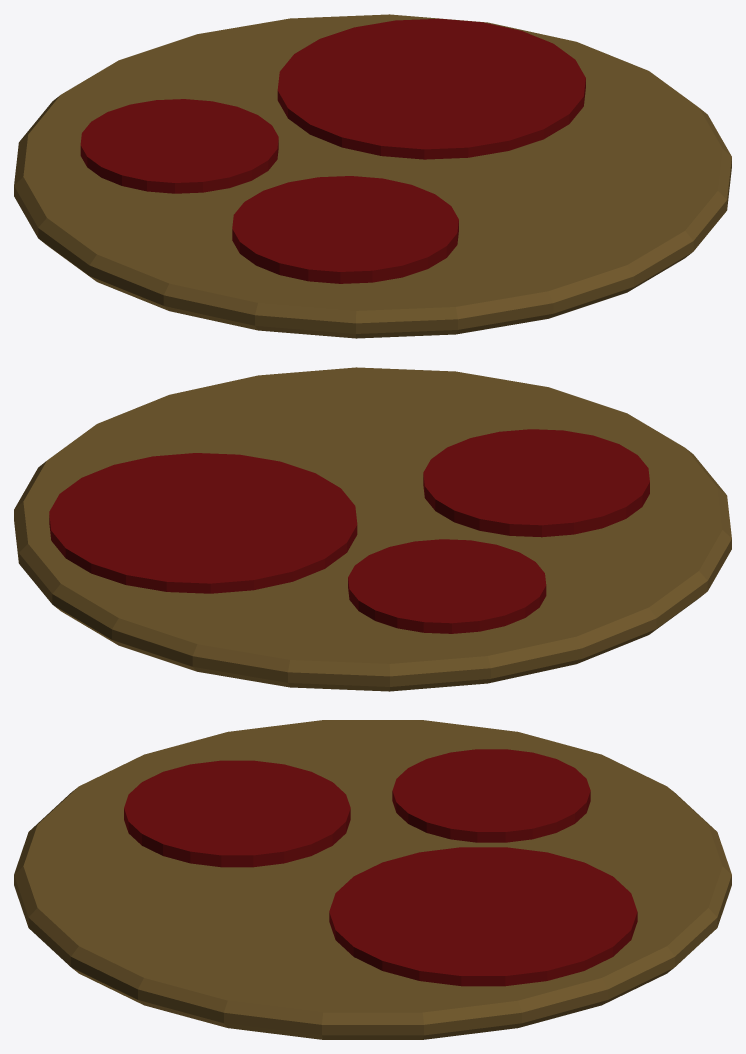
The model's file is wall_pizza2.fbx.
3 renders of one model, top to bottom at view 1: azimuth 30°, elevation 25°; view 2: azimuth 150°, elevation 25°; view 3: azimuth 270°, elevation 25°, orthographic.
Parts seen in each view (by area): view 1: Cylinder, Cylinder.002, Cylinder.003, Cylinder.001; view 2: Cylinder, Cylinder.002, Cylinder.003, Cylinder.001; view 3: Cylinder, Cylinder.002, Cylinder.003, Cylinder.001.
Part boxes in pixels (<box>): Cylinder: <box>14,14,731,338</box>; Cylinder.002: <box>277,18,585,159</box>; Cylinder.003: <box>232,176,458,283</box>; Cylinder.001: <box>80,99,278,193</box>; Cylinder: <box>14,367,731,691</box>; Cylinder.002: <box>49,453,357,593</box>; Cylinder.003: <box>423,429,649,537</box>; Cylinder.001: <box>348,539,546,633</box>; Cylinder: <box>14,720,731,1039</box>; Cylinder.002: <box>329,847,637,986</box>; Cylinder.003: <box>124,760,350,867</box>; Cylinder.001: <box>392,749,590,842</box>.
Bounding box in the file's own units: 305 × 18.61 × 308.
